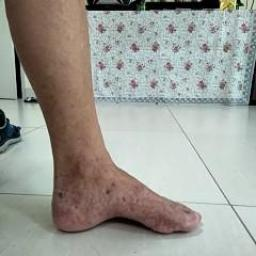Medial View -Left Foot-: (37, 136, 210, 250)
